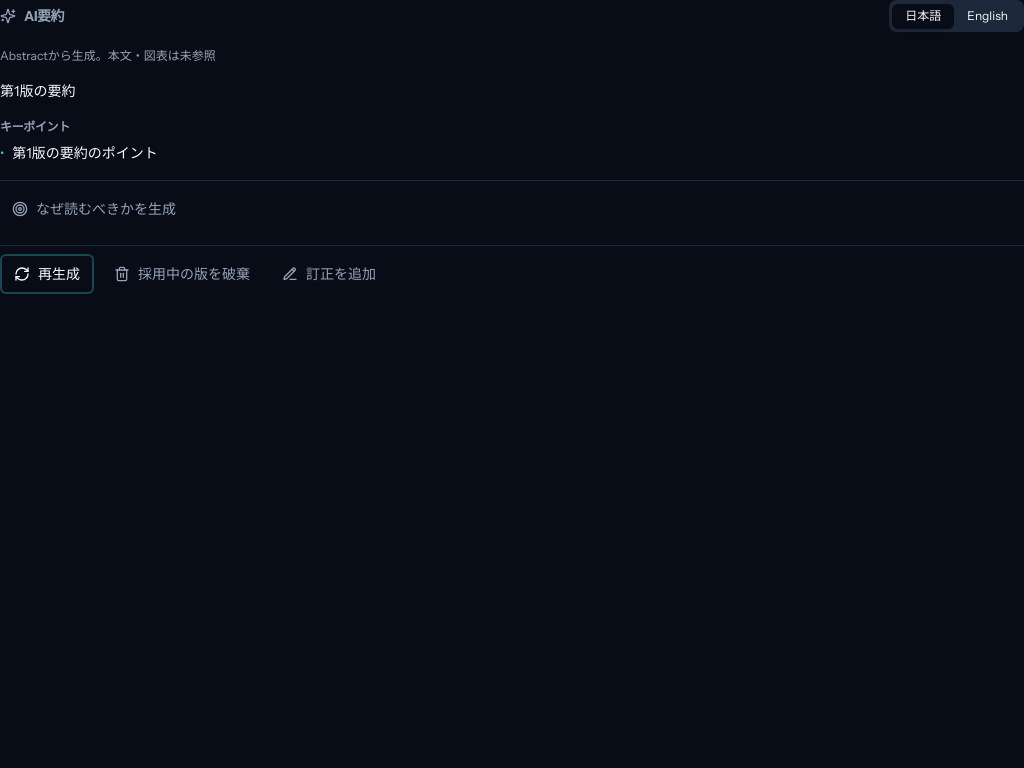
Test: PaperSummary › 版の再生成・破棄・比較 › 正常系: 最後の版を破棄しても自動生成で作り直さない
The image size is (1024, 768).
Step 1. Click the button "採用中の版を破棄" → (182, 274), box x1=102 y1=254 x2=262 y2=294
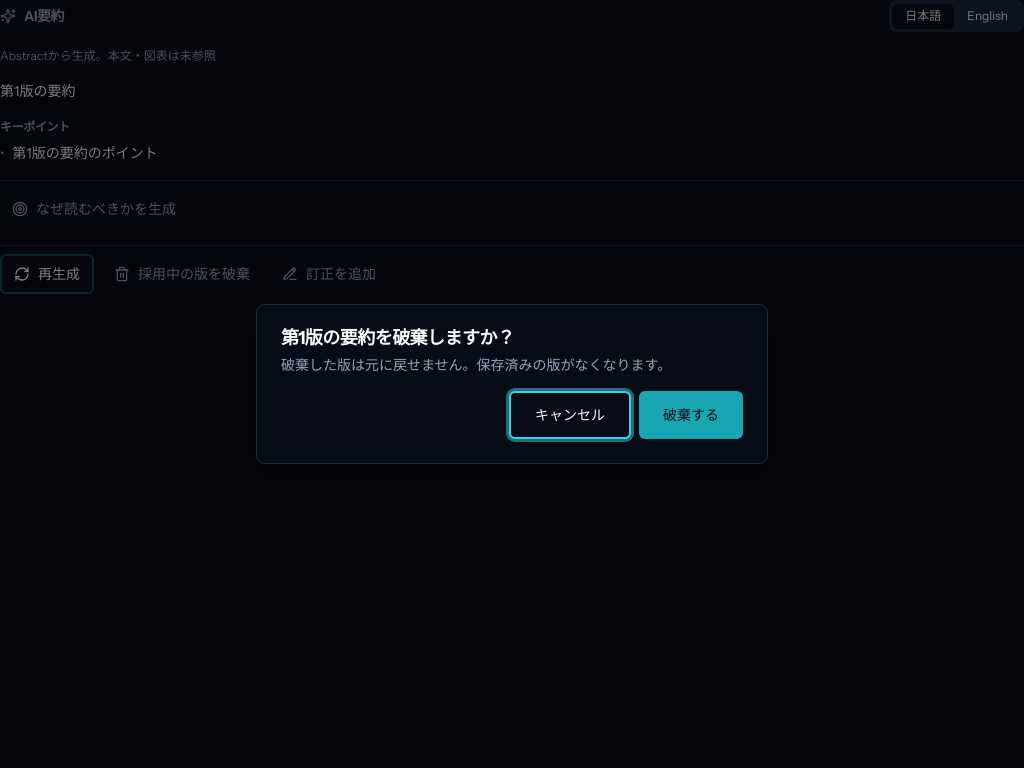
Check: the dialog shows "保存済みの版がなくなります", box x1=477 y1=356 x2=671 y2=374
Step 2. Click the button "破棄する" → (691, 415), box x1=639 y1=391 x2=743 y2=439
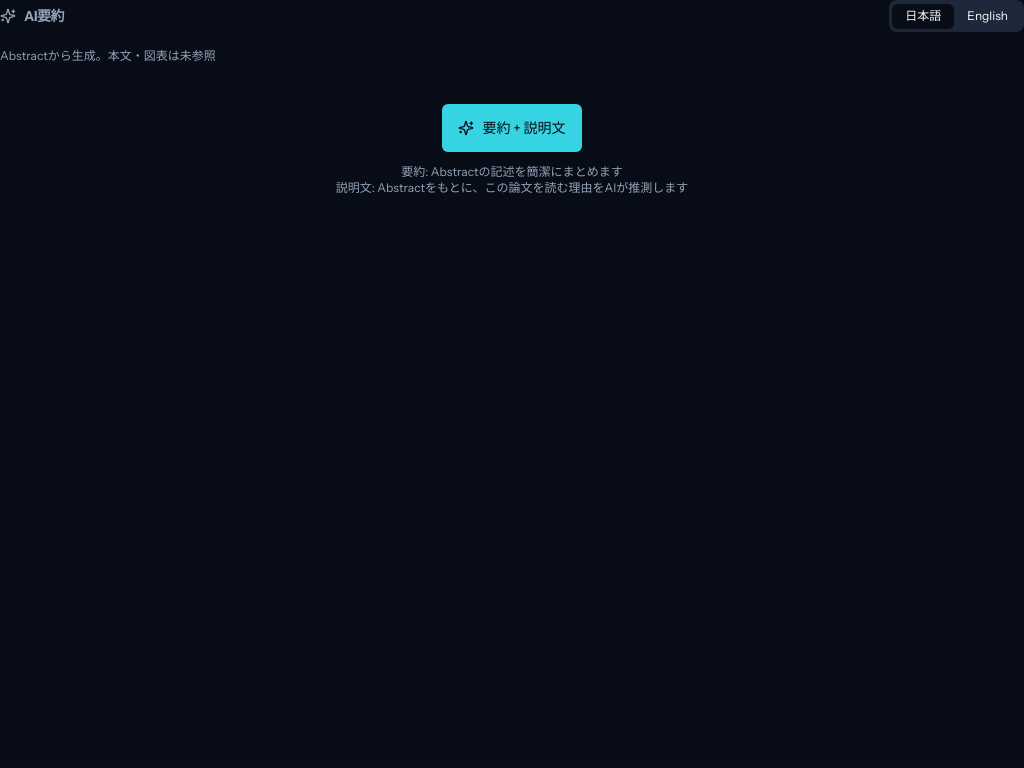
Check: the button "要約 + 説明文" is shown, box x1=442 y1=104 x2=582 y2=152
